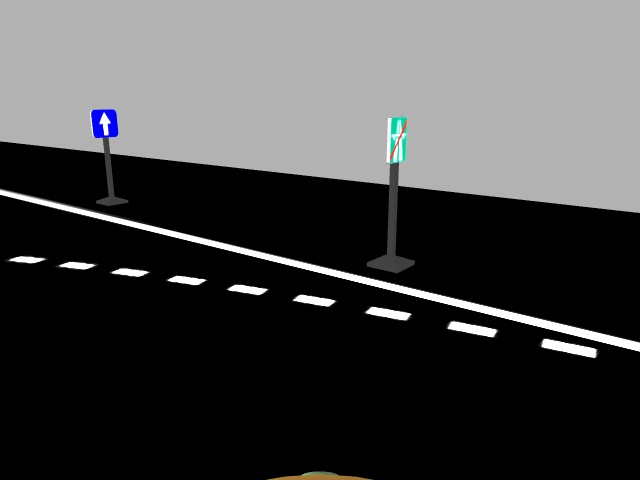HighwayExit: (382, 115, 410, 161)
OneWay: (84, 107, 119, 137)
